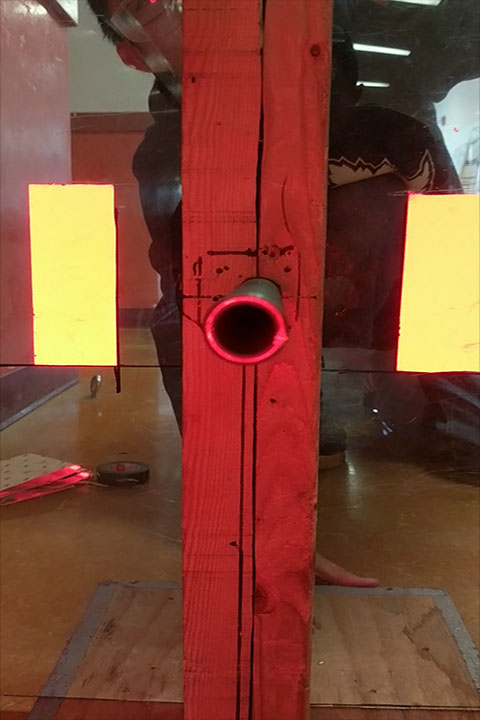gear: (27, 182, 118, 368), (395, 192, 480, 373)
